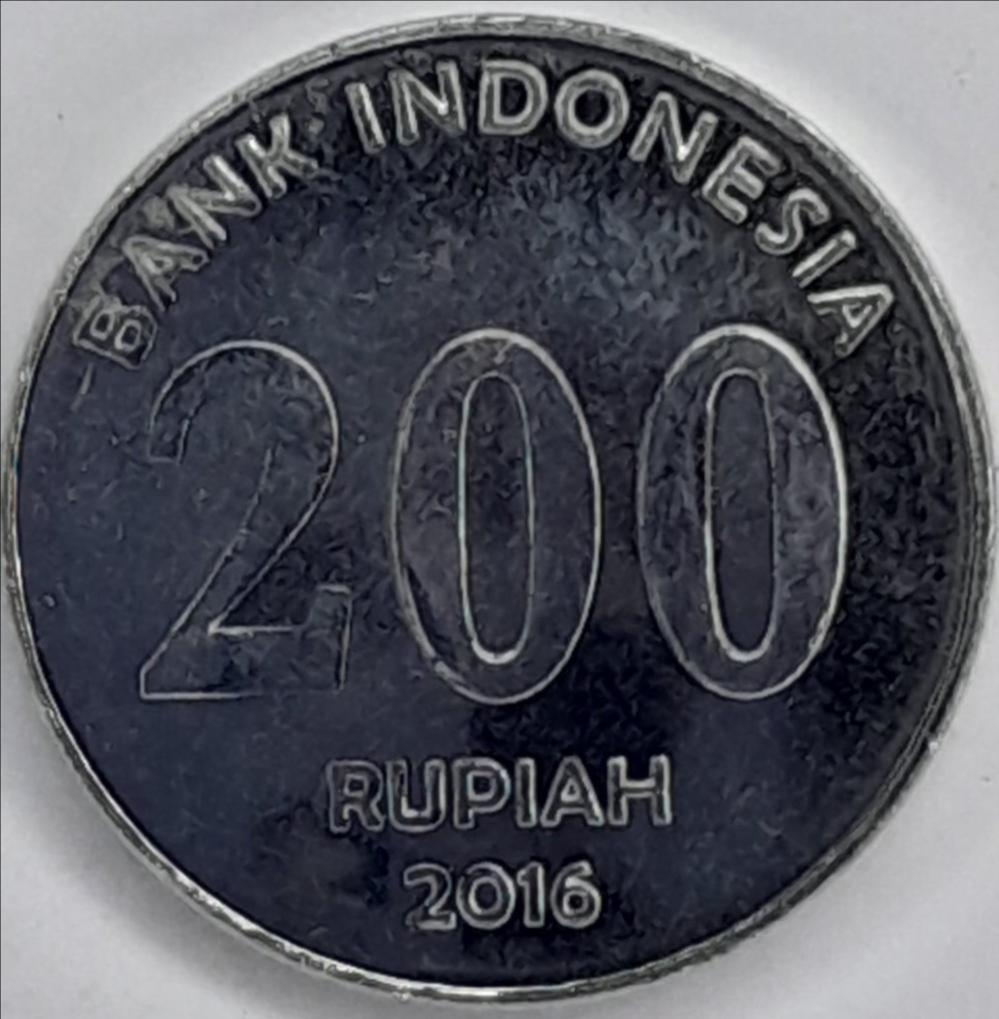coin_200_e2016: (0, 18, 999, 1019)
